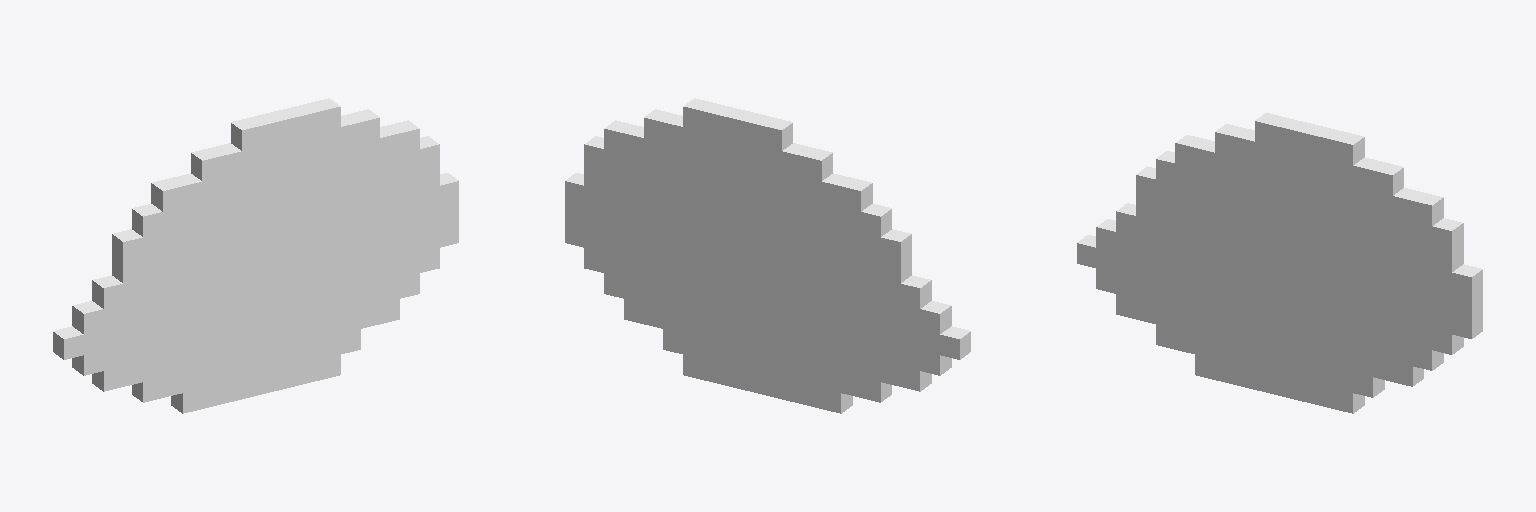
File: Soul_1.obj
3 views of the same model, side by side, from view 1: azimuth 30°, elevation 25°; view 2: azimuth 150°, elevation 25°; view 3: azimuth 330°, elevation 25° (orthographic).
Visible parts, largest first — view 1: object 1; view 2: object 1; view 3: object 1.
Part boxes in pixels (bbox=[...]): object 1: bbox=[53, 98, 458, 413]; object 1: bbox=[565, 98, 970, 413]; object 1: bbox=[1077, 113, 1482, 413].
Size of the model in its own units: 2 by 1.3 by 0.1.